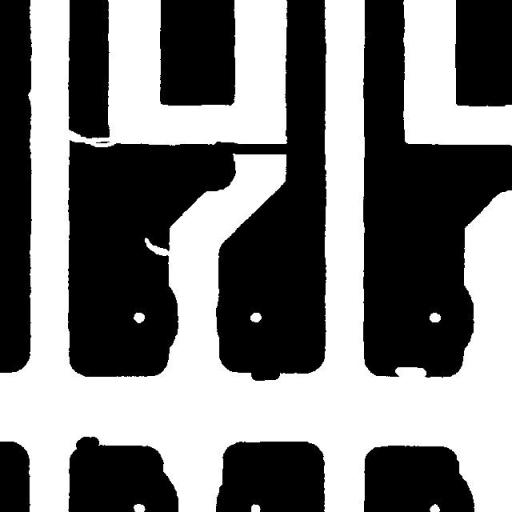mousebite: (137, 230, 178, 264), (387, 360, 434, 386)
open: (56, 122, 124, 154)
short: (206, 134, 300, 162)
spur: (243, 360, 287, 388), (68, 429, 106, 458)
